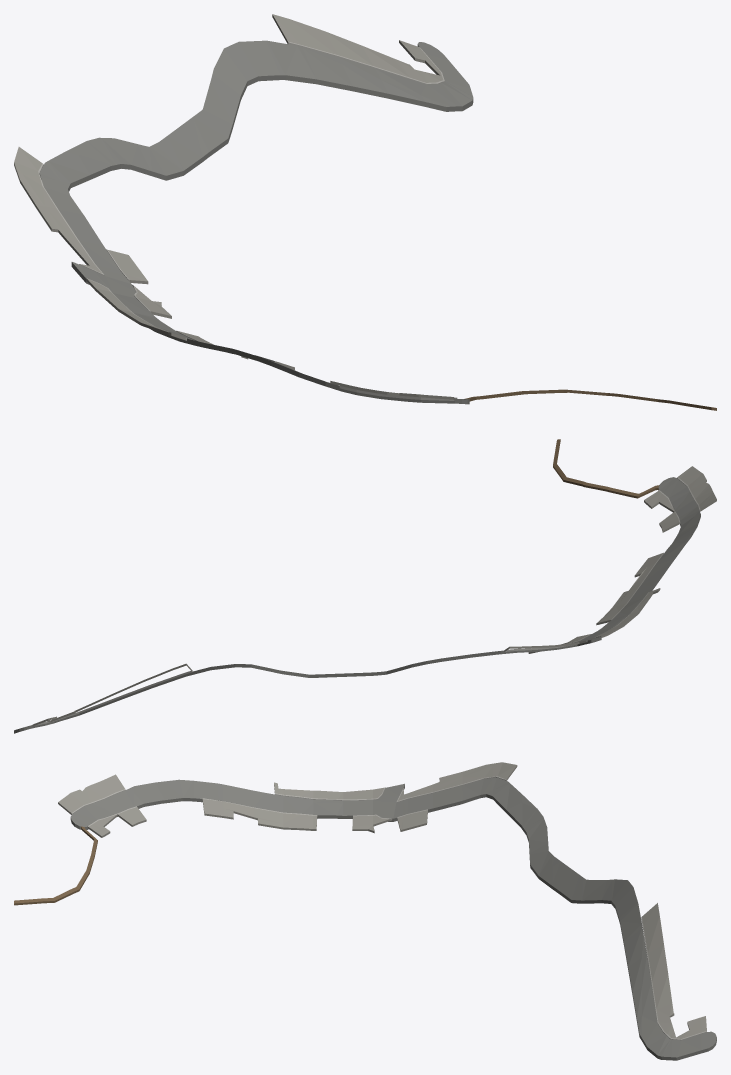
The picture shows the model from 3 angles, top to bottom: view 1: azimuth 30°, elevation 25°; view 2: azimuth 150°, elevation 25°; view 3: azimuth 270°, elevation 25°; orthographic projection. The views are drawn at different scales.
Size of the model in its own units: 153 by 42.18 by 235.
